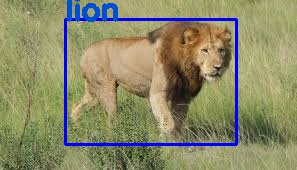lion: (64, 19, 236, 144)
